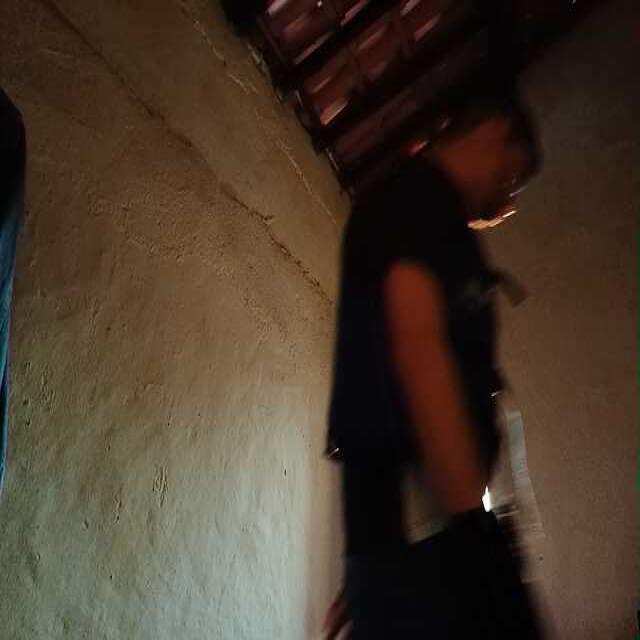colete: (328, 168, 500, 484)
pessoa: (345, 65, 548, 640)
